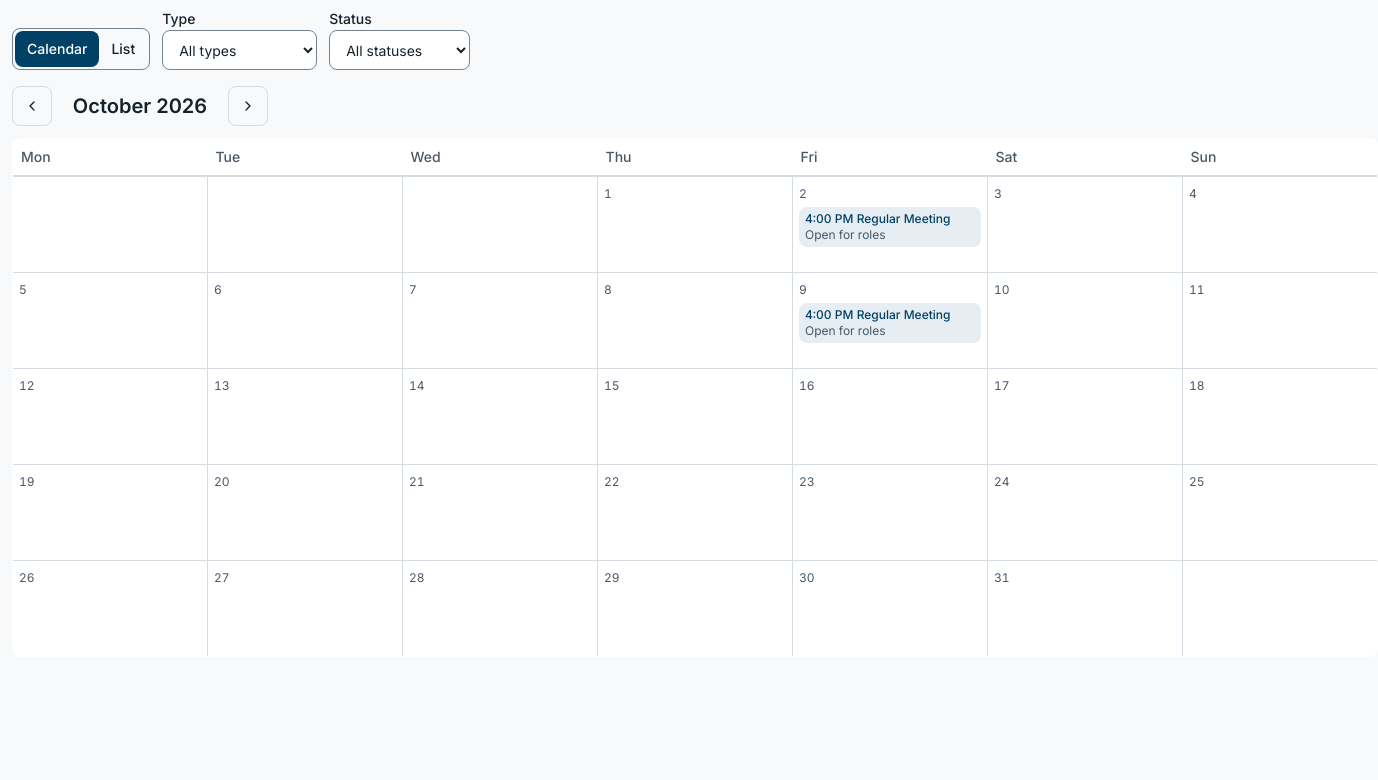
Test: S-03 Meetings › calendar opens on October 2026 (mock clock) and moves between months
Expected: the heading "October 2026" is shown, [73,94,207,118]
Expected: the number of links is 2, [799,207,981,247]; [799,303,981,343]
Click the button named "Previous month": point(32, 106) [12,86,52,126]
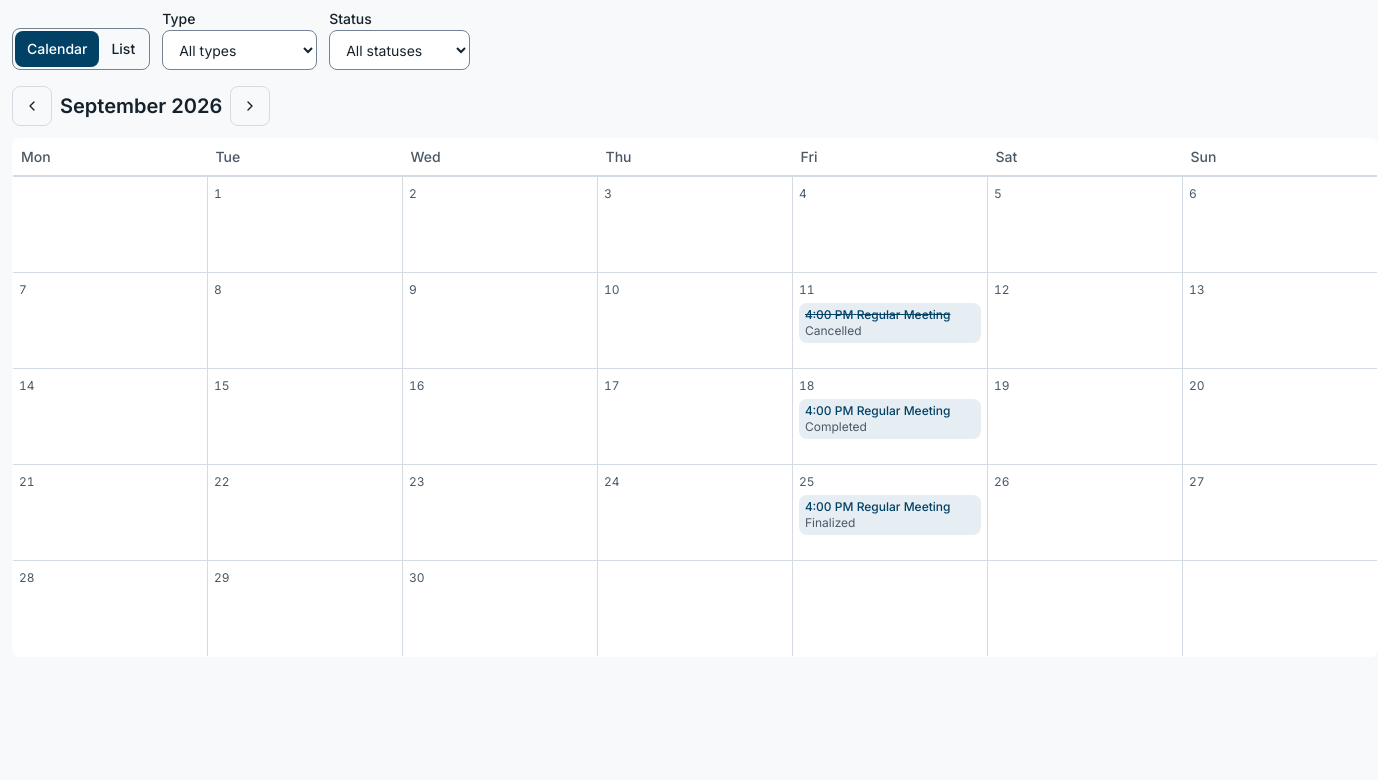
Expected: the heading "September 2026" is shown, [60,92,222,120]
Expected: the number of links is 3, [799,303,981,343]; [799,399,981,439]; [799,495,981,535]
